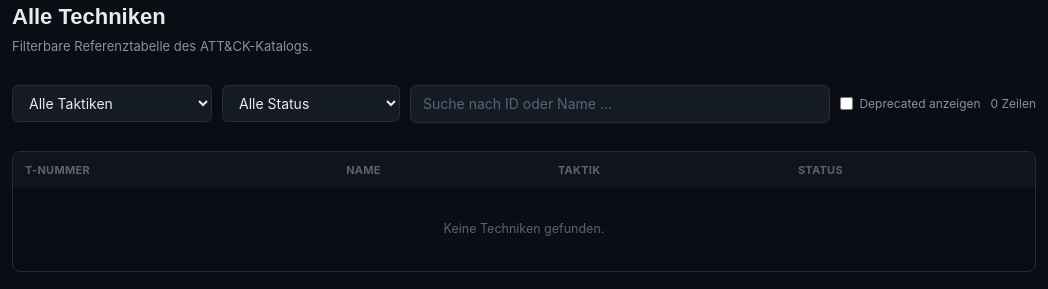
Techniques › zeigt deprecated Techniken erst nach "Deprecated anzeigen" (Regressionstest Schritt 6)
expect the text "Keine Techniken gefunden." is shown: met, box [13, 188, 1035, 271]
Click the checkbox labelled "Deprecated anzeigen" at [847, 104], box [840, 97, 853, 110]
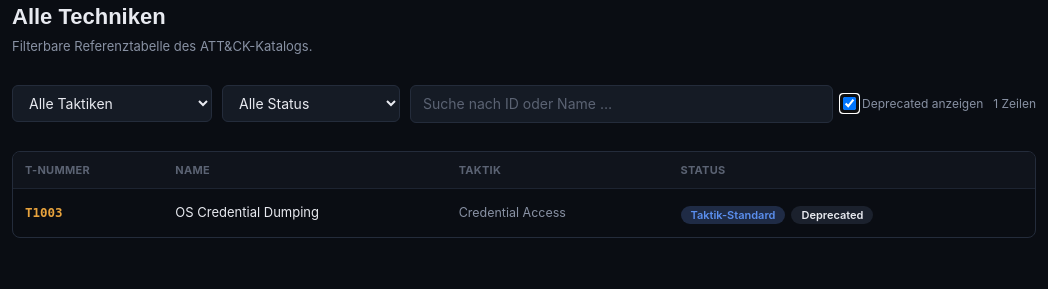
expect the text "OS Credential Dumping" is shown: met, box [163, 188, 447, 237]
expect the text "Deprecated" is shown: met, box [791, 206, 873, 224]
